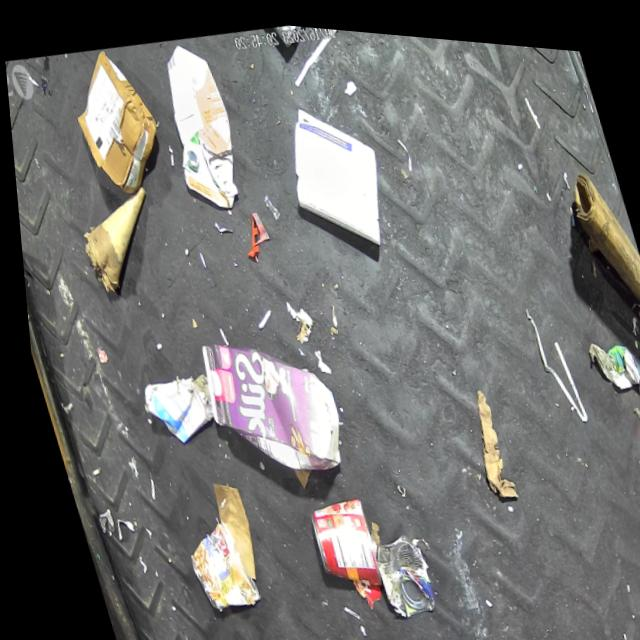can: (169, 510, 252, 613), (294, 485, 376, 589), (357, 520, 431, 617), (630, 331, 640, 421)
non_white_jug: (184, 316, 347, 489), (142, 30, 250, 212)
